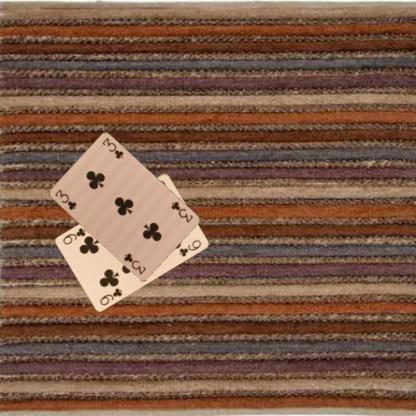3c: (52, 186, 77, 212), (168, 199, 194, 224)
9c: (97, 285, 124, 306)
